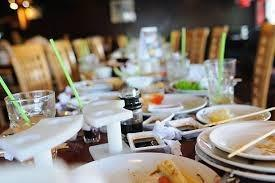Messy Table: (1, 45, 275, 183)
